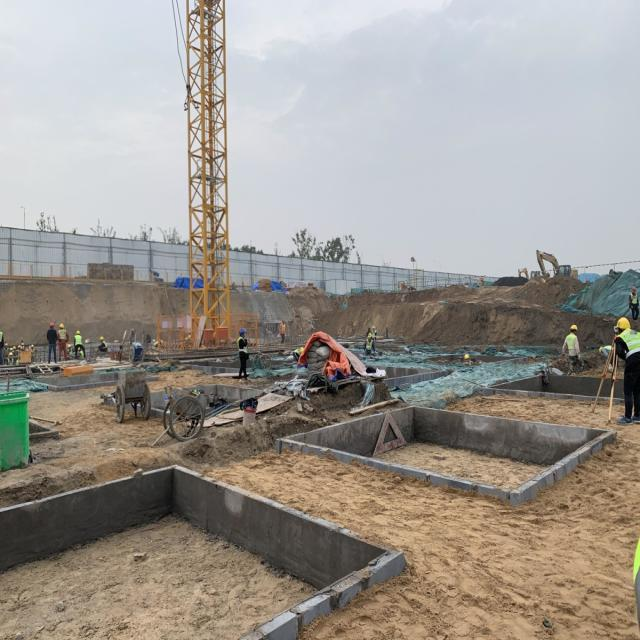crane: (184, 0, 230, 348)
excavator: (536, 250, 578, 280), (518, 268, 529, 280)
